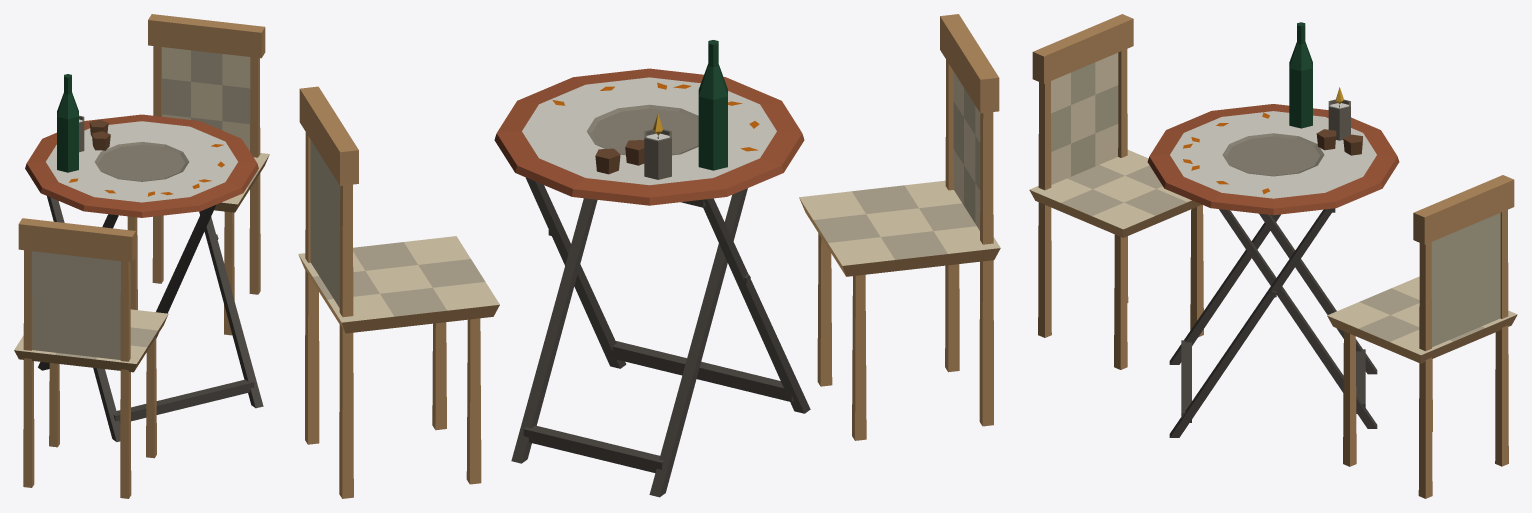
Rendered from cantina-table-ef03e3.glb.
3 views of the same model, side by side, from view 1: azimuth 30°, elevation 25°; view 2: azimuth 150°, elevation 25°; view 3: azimuth 270°, elevation 25° (orthographic). The views are drawn at different scales.
Parts seen in each view (by area): view 1: chairs, table-top, base, bottle; view 2: chairs, table-top, base, bottle; view 3: chairs, table-top, base, bottle.
Part boxes in pixels (<box>): chairs: <box>14,14,269,498</box>; table-top: <box>25,114,258,217</box>; base: <box>38,196,263,441</box>; bottle: <box>57,74,78,172</box>; chairs: <box>298,14,1000,498</box>; table-top: <box>494,68,804,205</box>; base: <box>511,177,810,497</box>; bottle: <box>698,40,727,170</box>; chairs: <box>1029,14,1517,498</box>; table-top: <box>1147,99,1399,215</box>; base: <box>1169,208,1377,437</box>; bottle: <box>1289,22,1312,128</box>.
Size of the model in its own units: 1.36 by 1.05 by 1.36.
